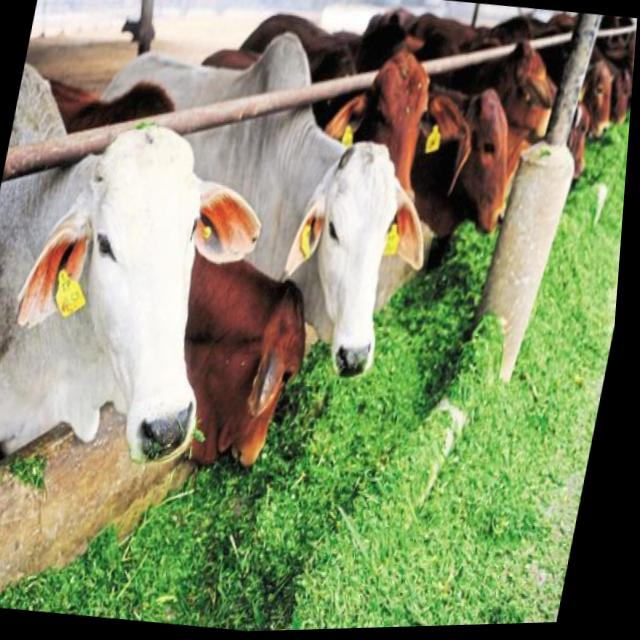cowFace: (0, 111, 266, 482), (270, 132, 427, 391)
